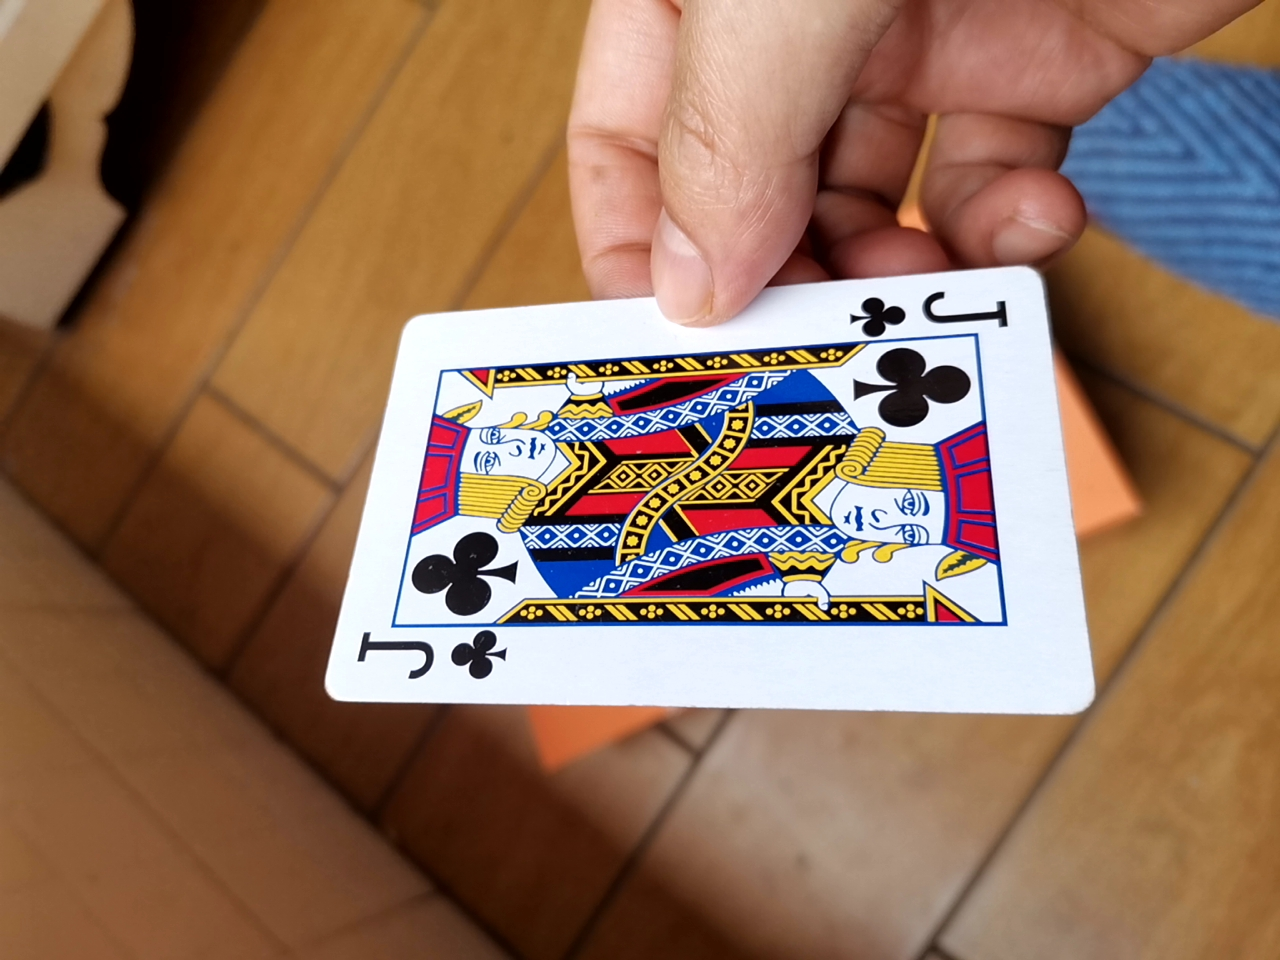mh j: (291, 262, 1089, 703)
